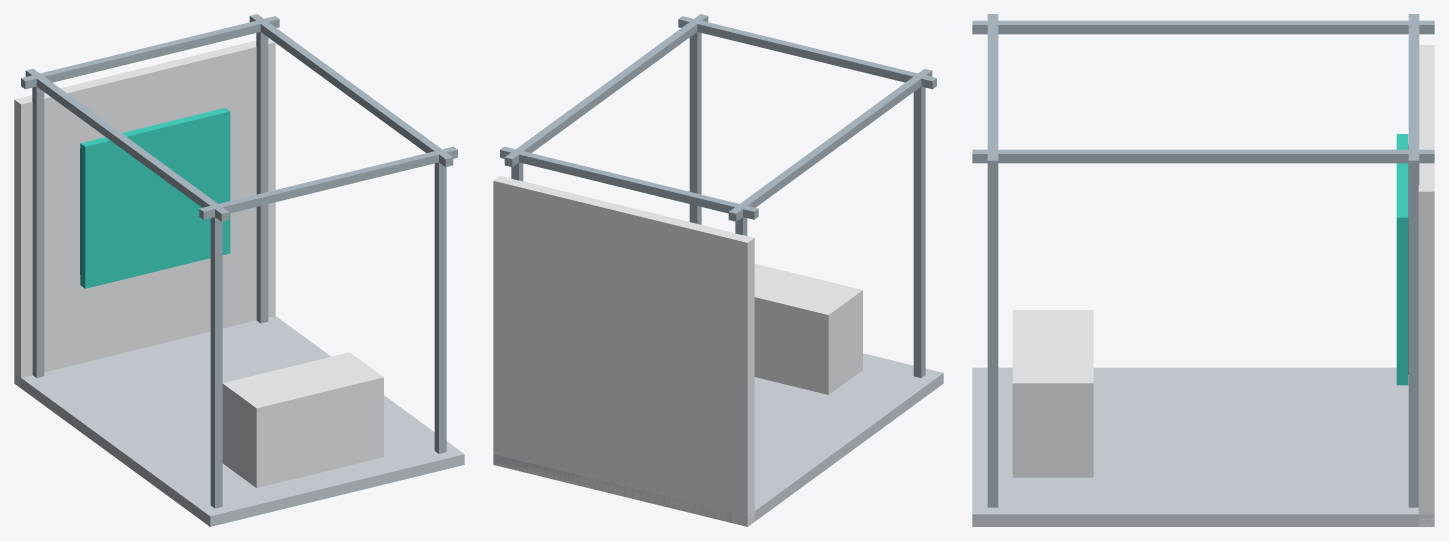
The picture shows the model from 3 angles, left to right: view 1: azimuth 30°, elevation 25°; view 2: azimuth 150°, elevation 25°; view 3: azimuth 270°, elevation 25°; orthographic projection. The views are drawn at different scales.
Parts seen in each view (by area): view 1: Exhibition Booth Concept; view 2: Exhibition Booth Concept; view 3: Exhibition Booth Concept.
Boxes of the visible parts, x1,y1,x2,y2 form: Exhibition Booth Concept: [14, 14, 464, 526]; Exhibition Booth Concept: [493, 14, 943, 526]; Exhibition Booth Concept: [972, 14, 1434, 526].
Size of the model in its own units: 3 by 3.49 by 4.
